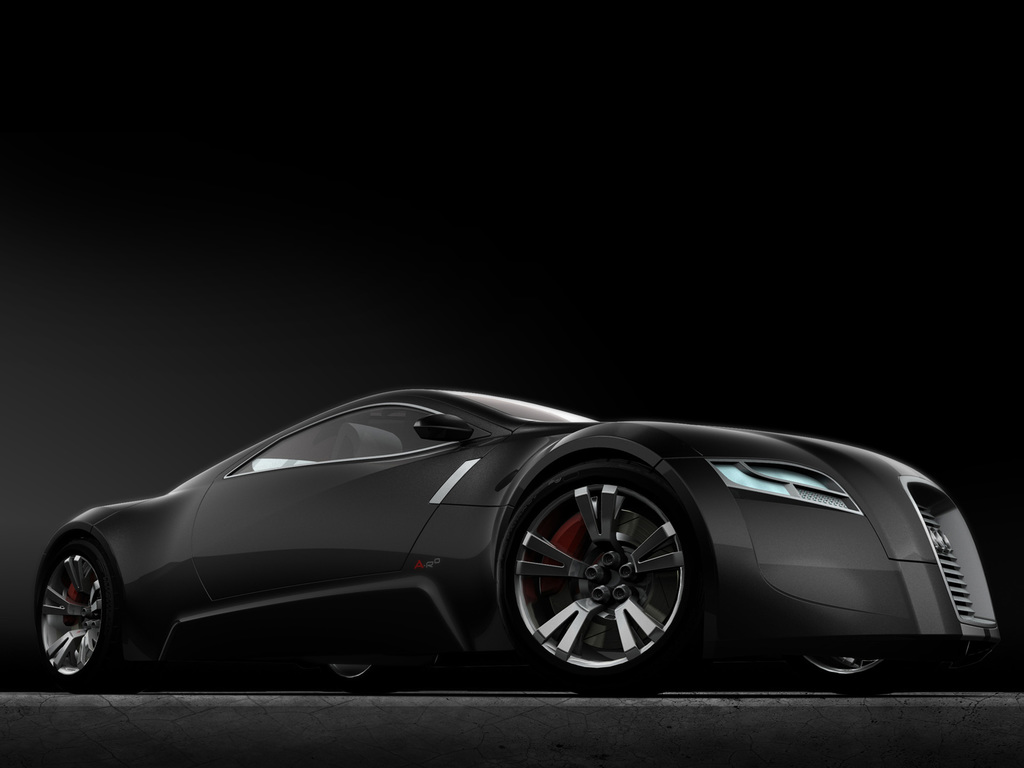Car: (28, 382, 1009, 695)
